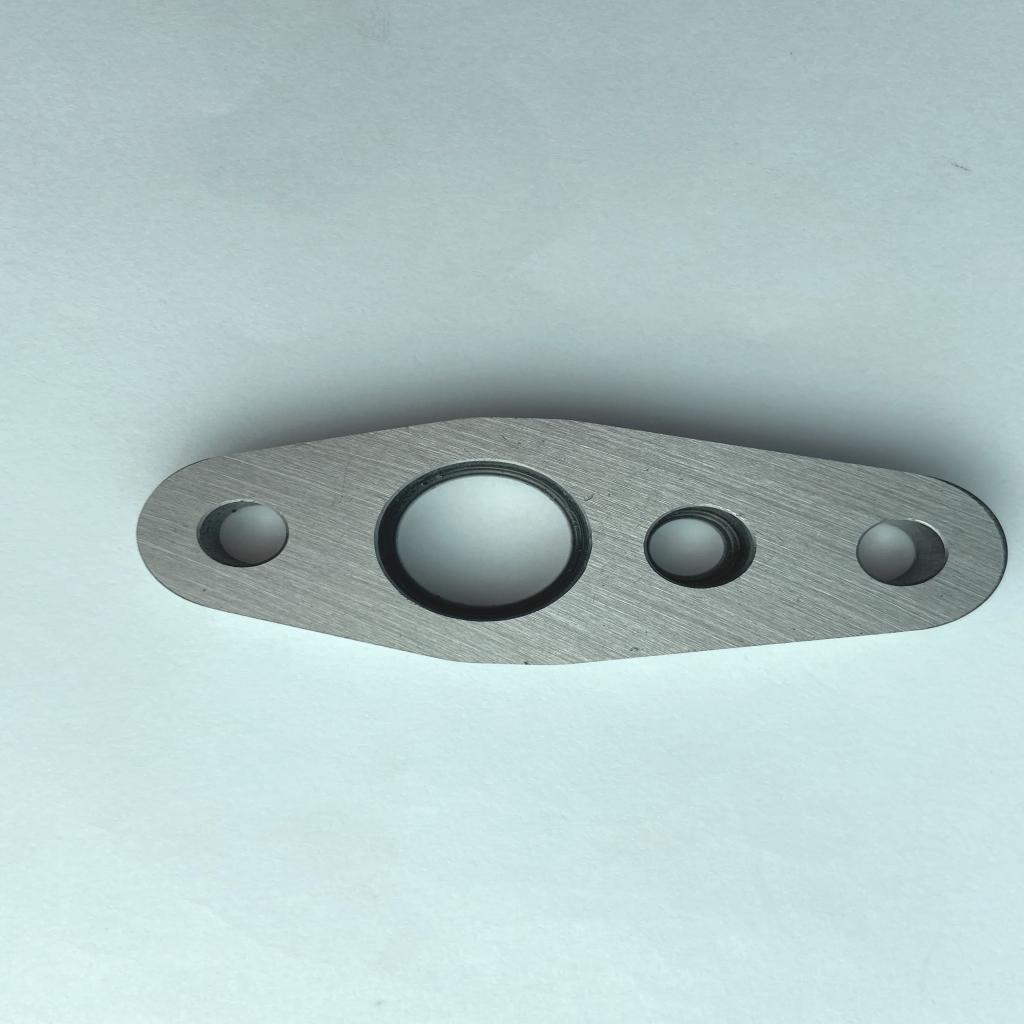chap: (581, 492, 597, 504), (522, 658, 533, 666)
lines: (333, 442, 362, 508), (625, 641, 648, 656)
